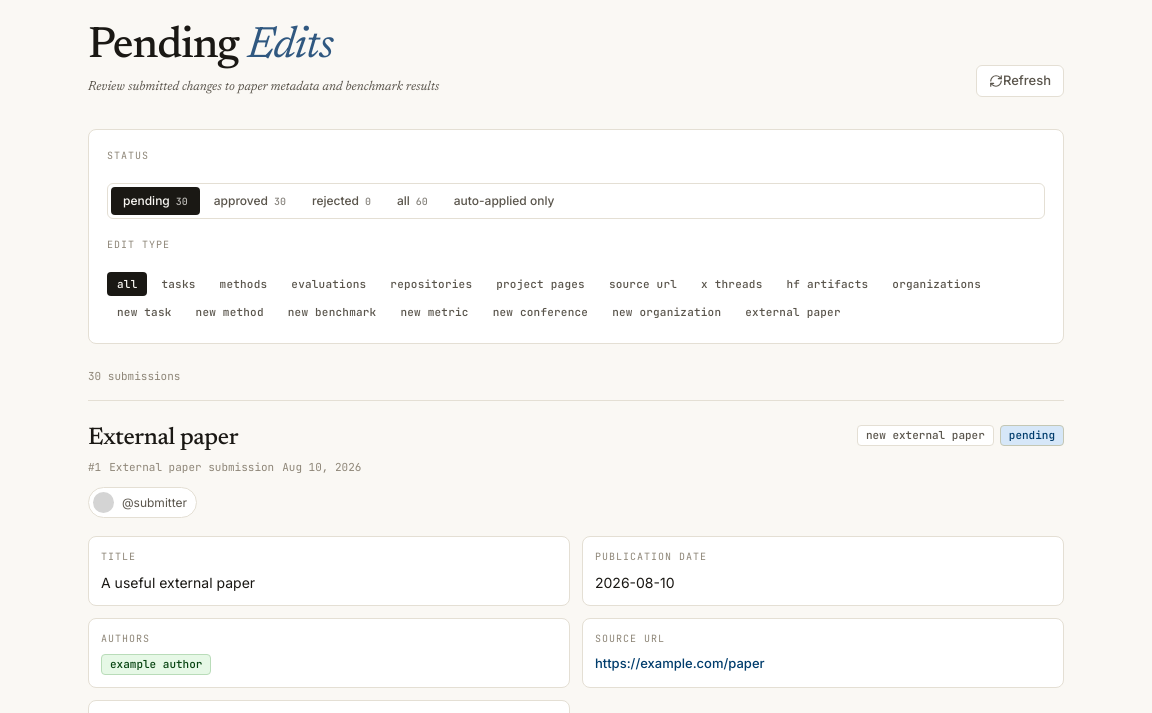
SubmissionsDashboard › pages every status by offset instead of growing the request limit
Click the button "all60": (412, 200) [385,186,440,214]
(page scrolled)
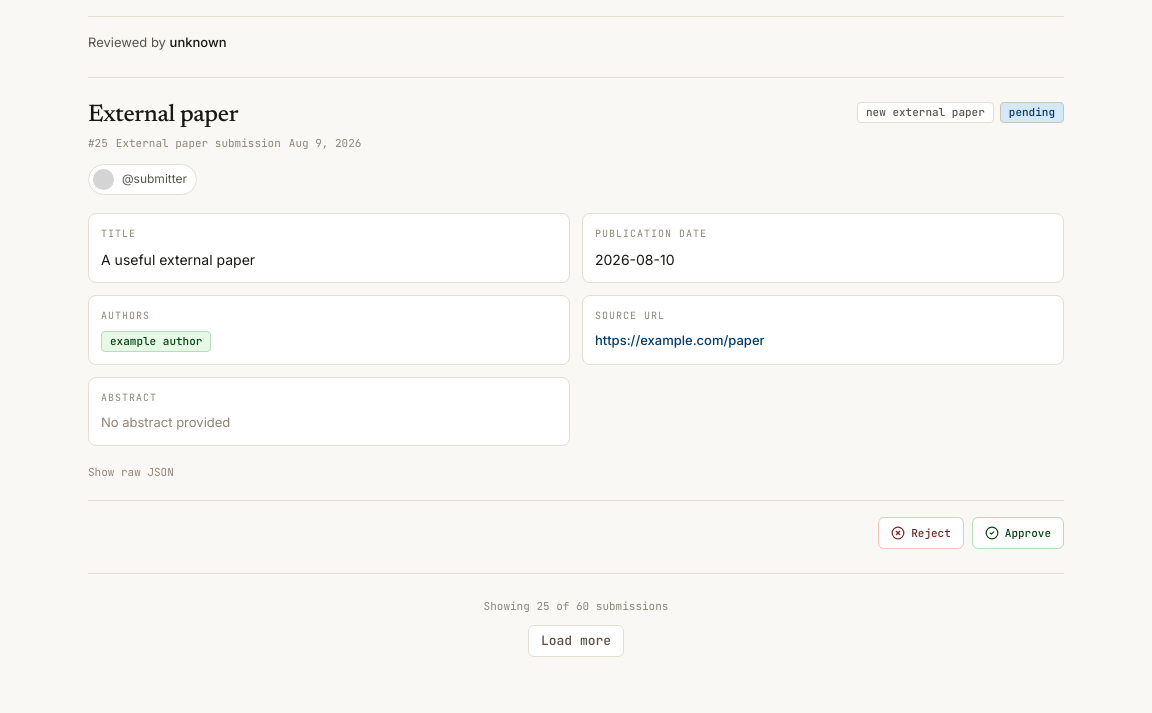
Result: the text "Showing 25 of 60 submissions" is shown at [484,598,668,614]
Click the button "Load more": (576, 640) [528,624,624,656]
(page scrolled)
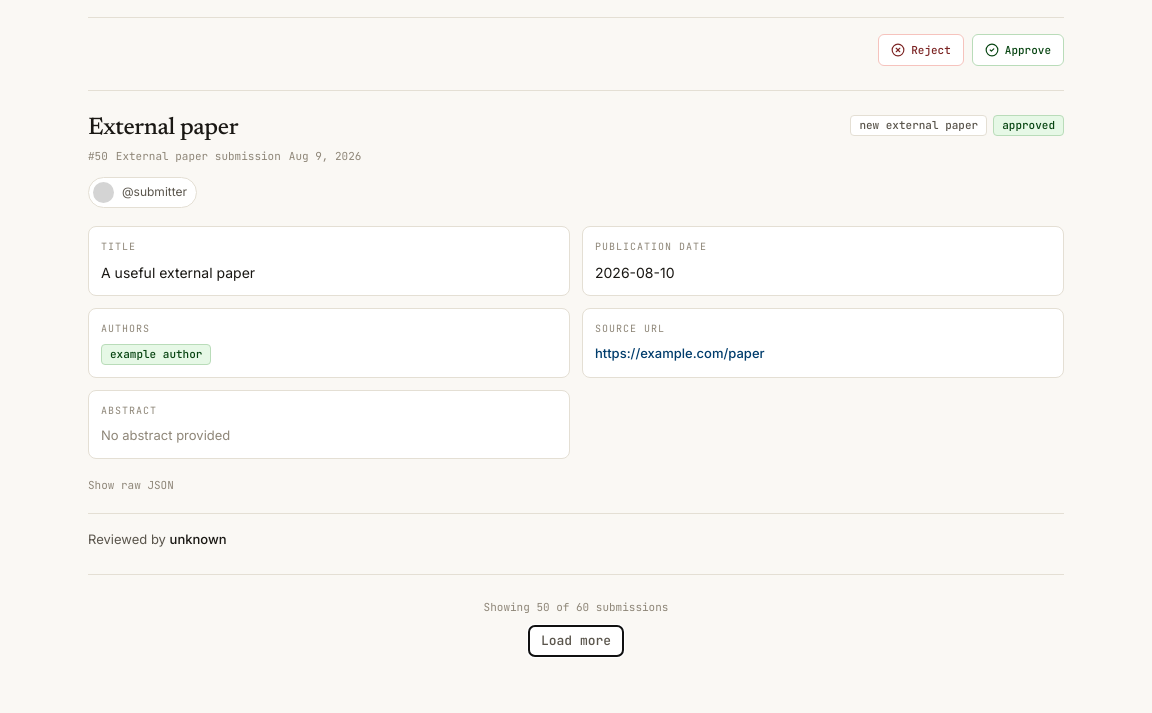
Result: the text "Showing 50 of 60 submissions" is shown at [484,599,668,615]
